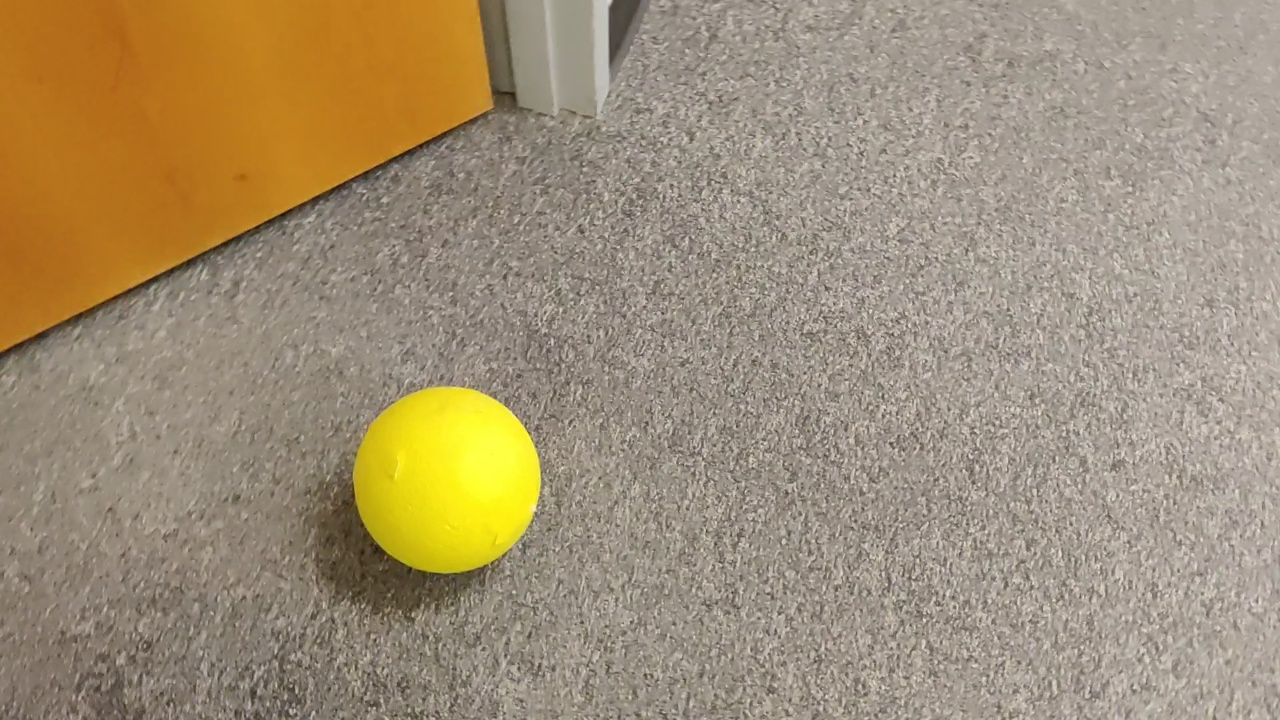Ball: (349, 378, 554, 579)
